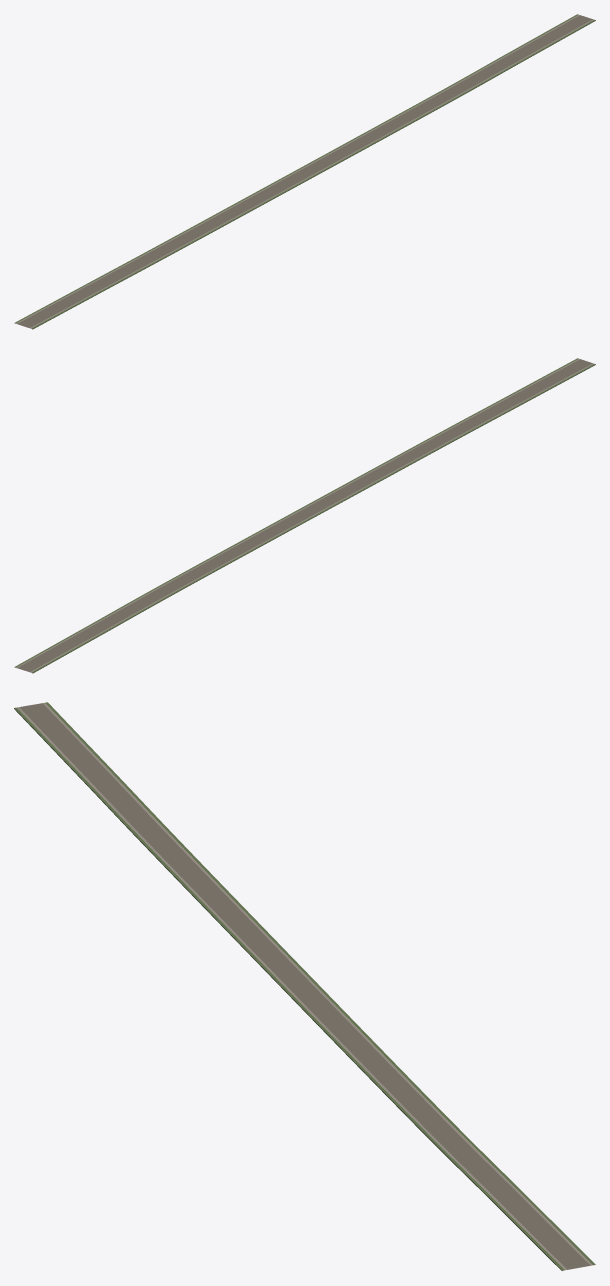
The model's file is road_roam_to_pine_ridge.glb.
3 views of the same model, one above another, from view 1: azimuth 30°, elevation 25°; view 2: azimuth 210°, elevation 25°; view 3: azimuth 270°, elevation 25° (orthographic). The views are drawn at different scales.
Visible parts, largest first — view 1: road; view 2: road; view 3: road.
Boxes of the visible parts, left/top/right/bottom form: road: left=14, top=14, right=595, bottom=329; road: left=14, top=358, right=595, bottom=673; road: left=14, top=702, right=595, bottom=1270.
Size of the model in its own units: 443 by 0.32 by 192.
